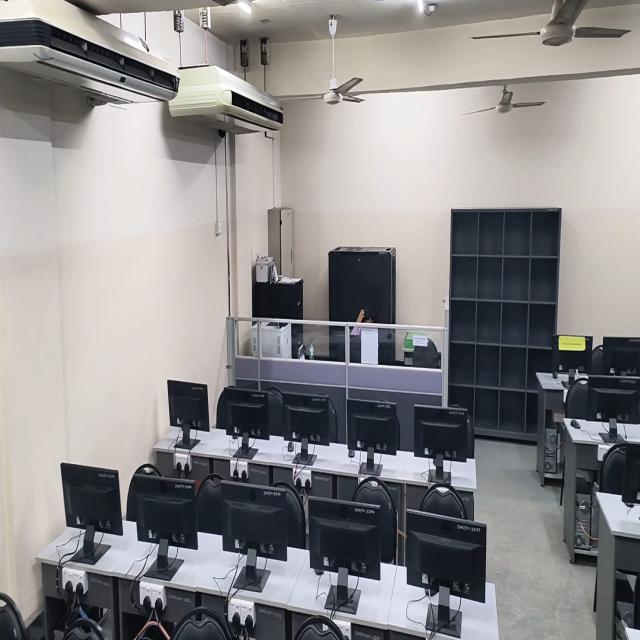Ac: (0, 1, 178, 114), (179, 63, 282, 140)
Chair: (196, 469, 220, 536), (422, 482, 466, 515), (353, 472, 392, 507), (289, 479, 308, 550), (601, 442, 626, 492), (568, 376, 586, 418), (594, 346, 606, 374)
Cpu: (573, 480, 594, 547), (545, 421, 560, 471)
Monitor: (408, 511, 487, 631), (313, 504, 379, 601), (220, 481, 288, 575), (136, 479, 196, 576), (66, 462, 122, 561), (411, 403, 469, 481), (348, 390, 396, 467), (224, 391, 268, 460), (284, 397, 328, 463), (586, 375, 638, 430), (166, 380, 211, 439), (553, 332, 594, 372), (603, 339, 640, 377)
